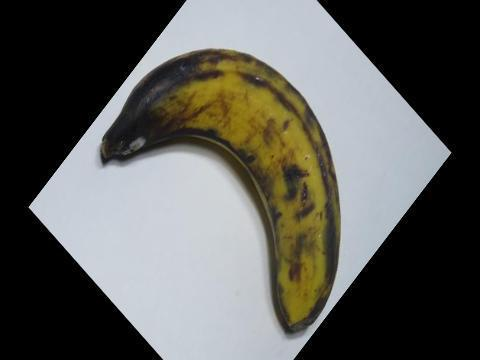overripe: (100, 42, 365, 349)
rotten: (94, 51, 214, 162)
